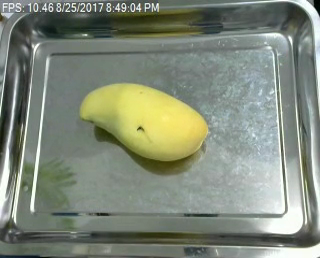Mango: (74, 80, 215, 163)
